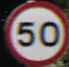Speed limit: (6, 2, 64, 57)
